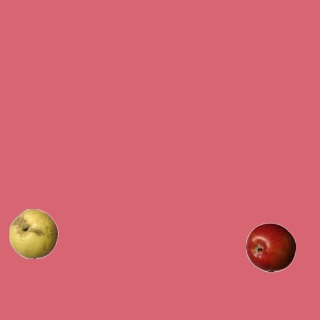Apple Braeburn: (245, 222, 295, 272)
Apple Golden 1: (8, 208, 58, 258)
